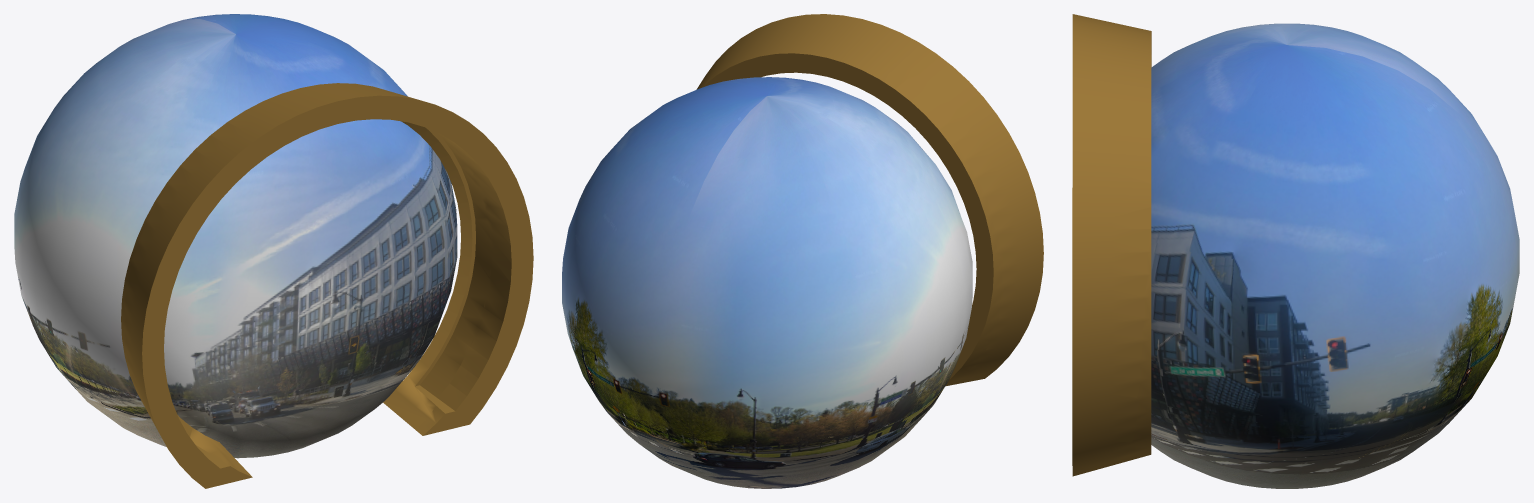
File: enter_the_portal_2_340.glb
The picture shows the model from 3 angles, left to right: view 1: azimuth 30°, elevation 25°; view 2: azimuth 150°, elevation 25°; view 3: azimuth 270°, elevation 25°; orthographic projection. The views are drawn at different scales.
Parts seen in each view (by area): view 1: Object003_mat_0_0, Object003_10 - Default_0; view 2: Object003_mat_0_0, Object003_10 - Default_0; view 3: Object003_mat_0_0, Object003_10 - Default_0.
Part boxes in pixels (x1,y1,x2,y2): Object003_mat_0_0: (14,14,457,458); Object003_10 - Default_0: (121,83,533,488); Object003_mat_0_0: (562,77,972,488); Object003_10 - Default_0: (696,14,1043,386); Object003_mat_0_0: (1151,23,1519,488); Object003_10 - Default_0: (1072,14,1151,476).
Bounding box in the file's own units: 3.41 × 3.42 × 3.22.
Materials: 2 (1 with a texture image).
